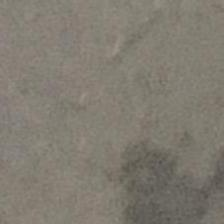Non_Crack: (15, 9, 210, 220)
